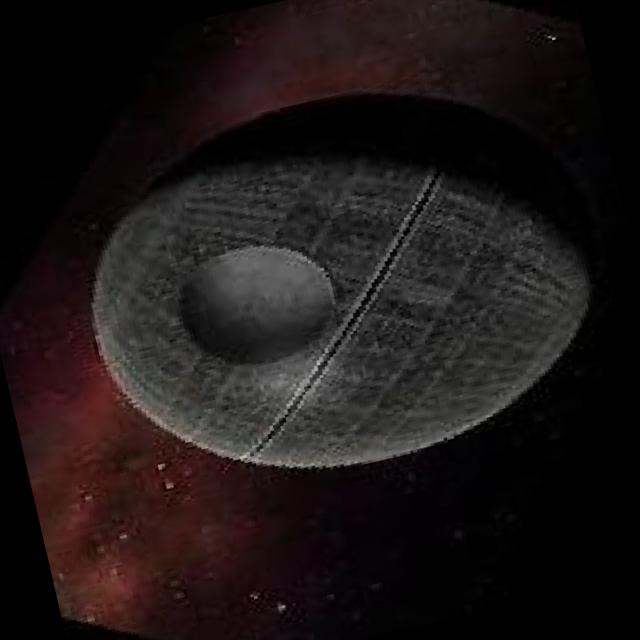Death Star: (56, 71, 628, 522)
